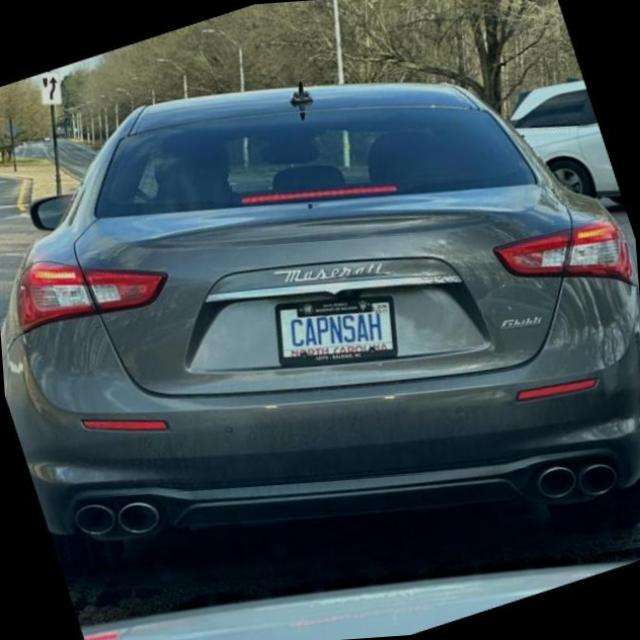LicensePlate: (272, 291, 395, 364)
